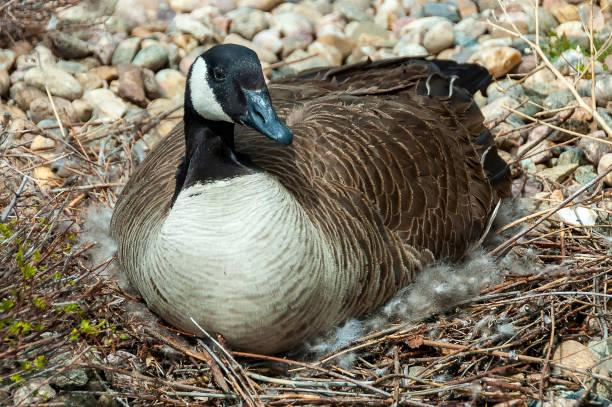Canadian-Goose: (113, 44, 501, 357)
